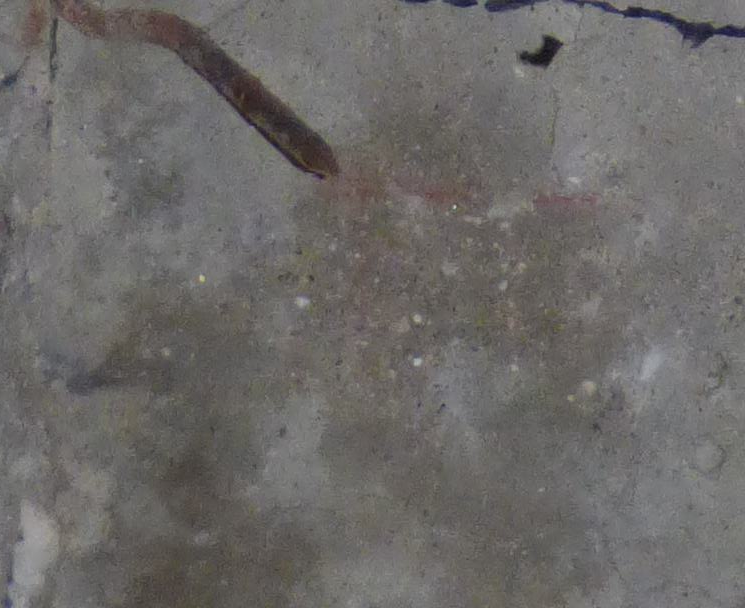Crack: (564, 1, 745, 48)
Exposed reinforcement: (54, 1, 343, 178)
Spalling: (400, 1, 552, 13), (520, 35, 565, 69)
